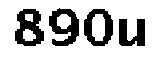0: (84, 6, 114, 50)
8: (12, 6, 46, 48)
9: (47, 8, 82, 49)
u: (115, 16, 150, 52)
